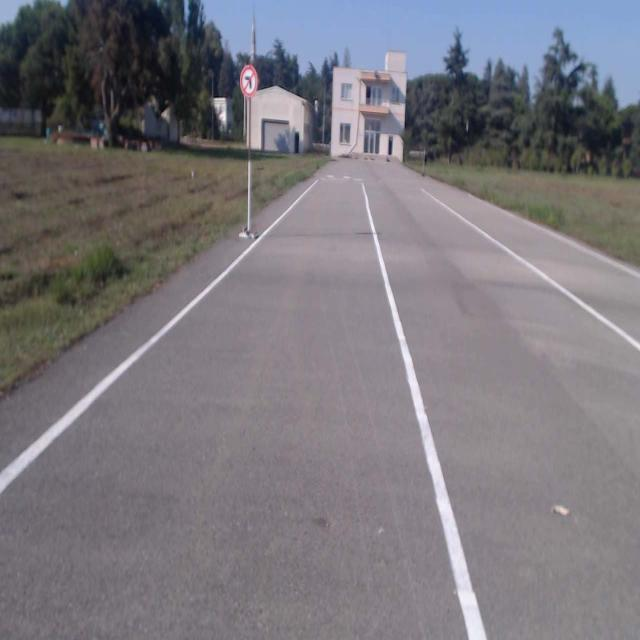soladonulmez: (242, 64, 256, 98)
